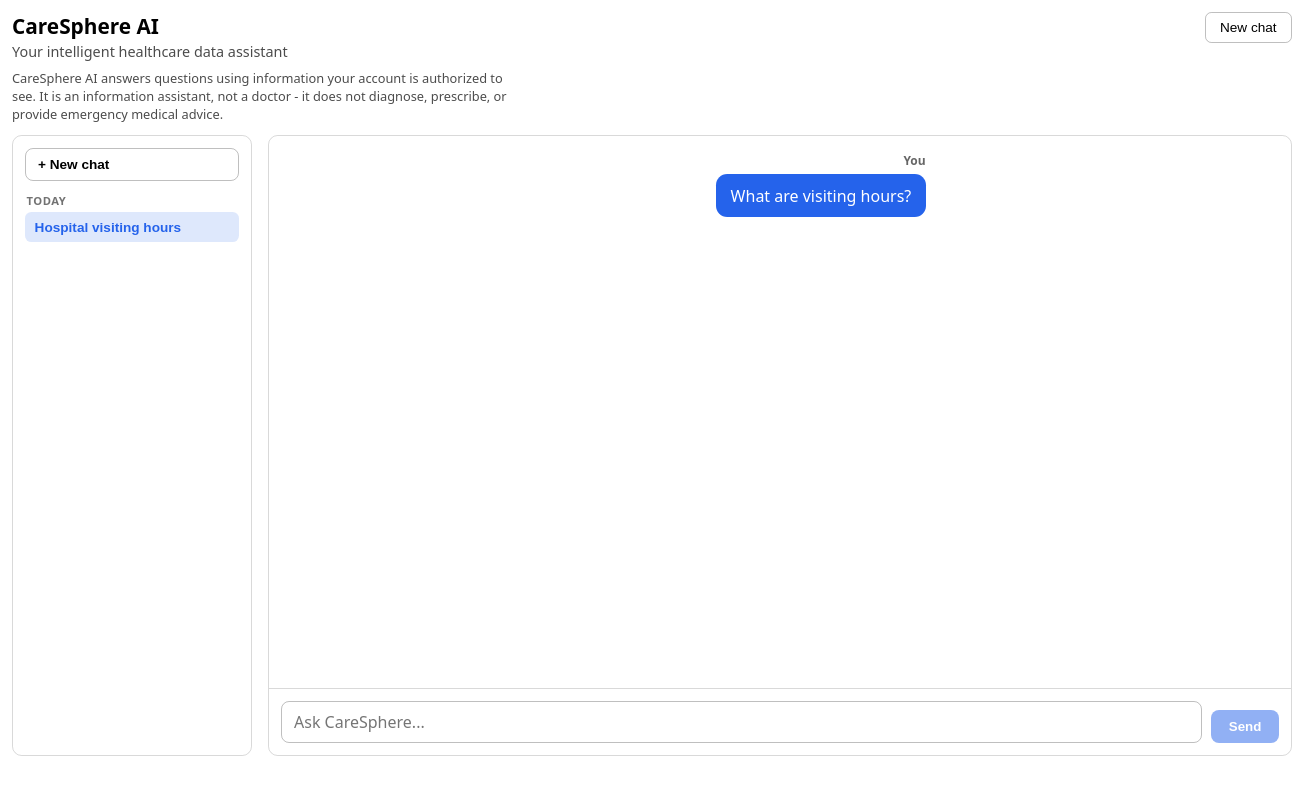
Test: ChatPage - conversation history › new chat navigates away from an open conversation without deleting it from history
Expected: the text "What are visiting hours?" is shown, left=716, top=174, right=926, bottom=217
Click the button "New chat" at (1248, 28), box left=1204, top=12, right=1292, bottom=43
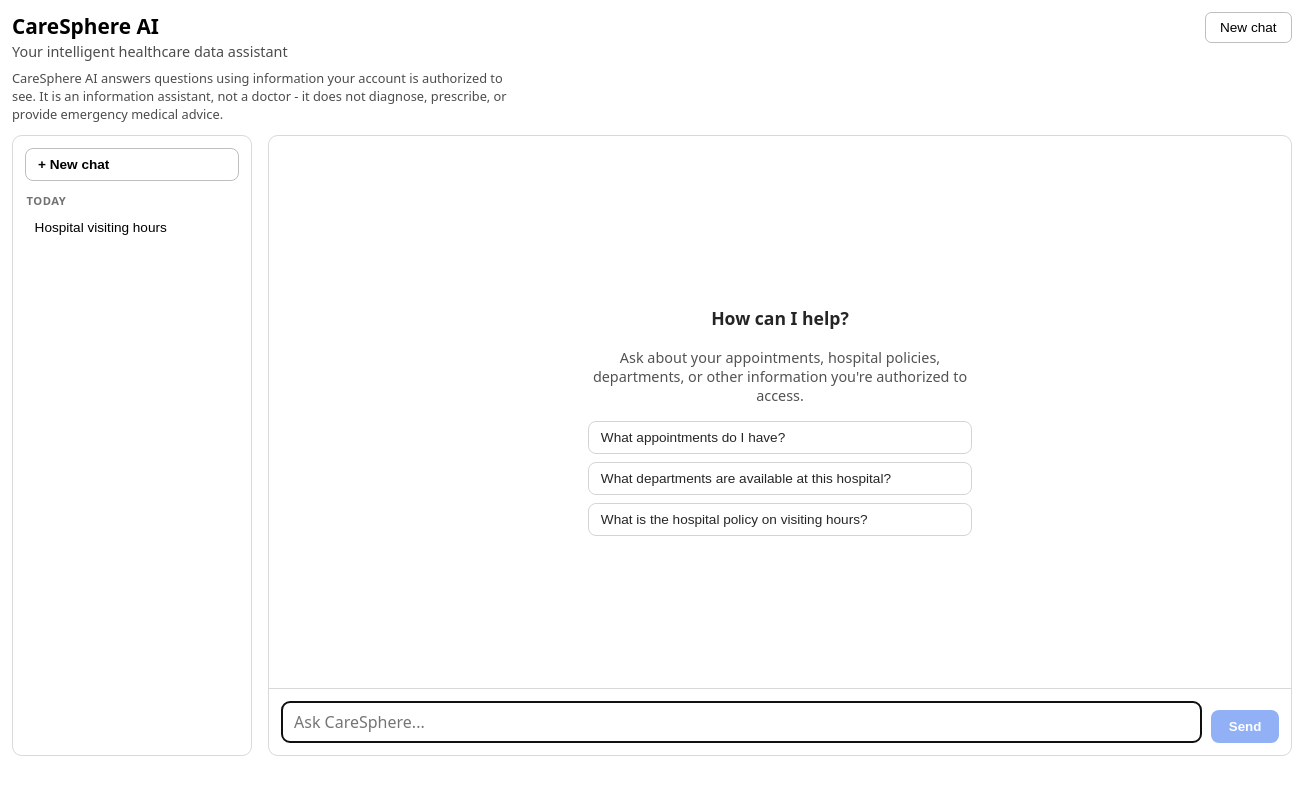
Expected: the button "Hospital visiting hours" is shown, left=25, top=212, right=239, bottom=242
Result: the text "How can I help?" is shown at left=711, top=306, right=849, bottom=330
